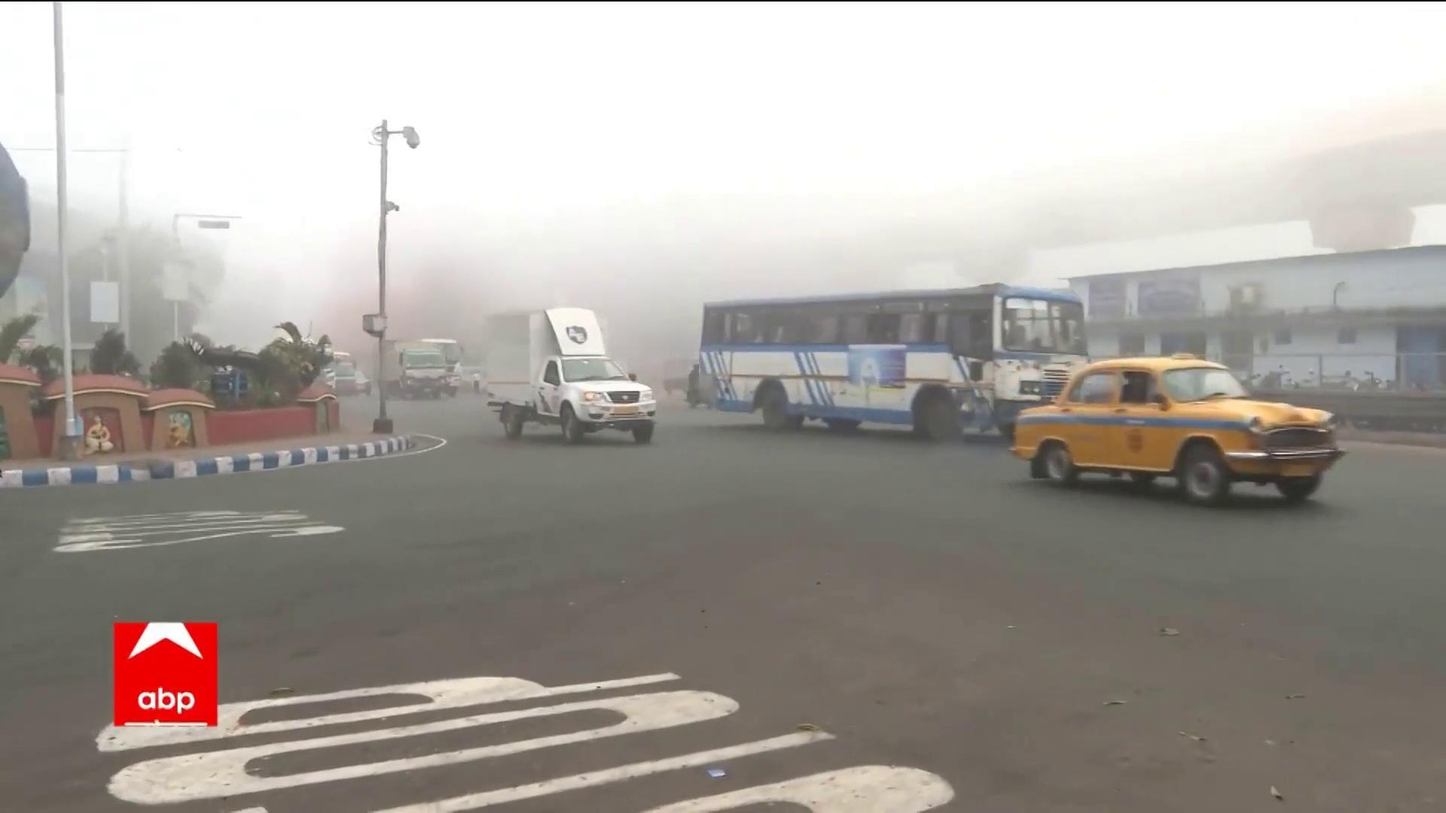Bus: (694, 282, 1099, 434)
Car: (1008, 349, 1345, 505)
Truck: (484, 304, 656, 446), (385, 337, 448, 400)
